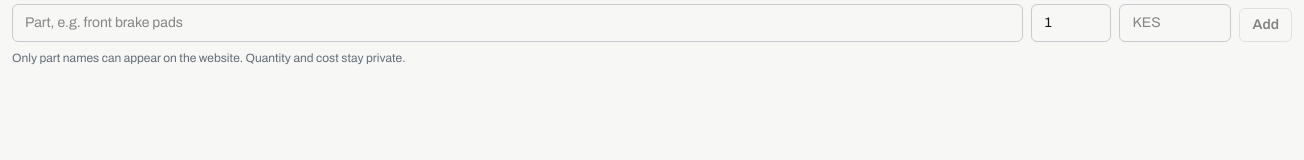
Test: <PartsEditor /> › adds a part with quantity and cost as numbers, then clears the row
Check: the button with aria-label "Add part" is disabled, box [1240,8,1292,42]
Step 1. Type "  Brake fluid " into the field named "Part name" → {"x": 518, "y": 23}, box [12,4,1024,42]
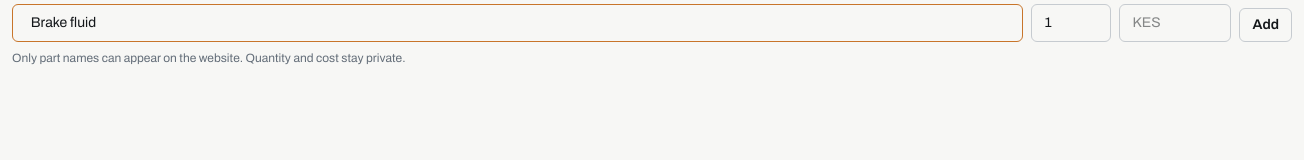
Step 2. Replace the text in the number field named "Quantity" with "1.5" → {"x": 1072, "y": 23}, box [1032,4,1112,42]
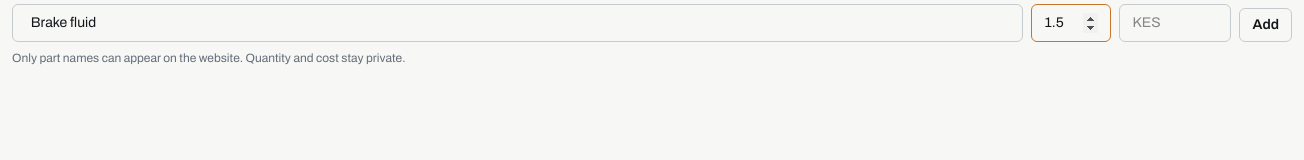
Step 3. Type "1200" into the number field named "Cost (KES)" → {"x": 1176, "y": 23}, box [1120,4,1232,42]
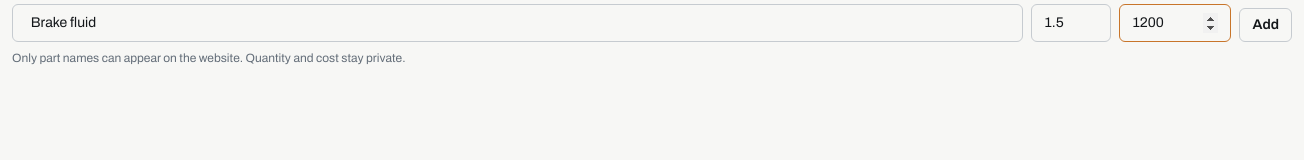
Step 4. Click the button with aria-label "Add part" → {"x": 1266, "y": 25}, box [1240,8,1292,42]
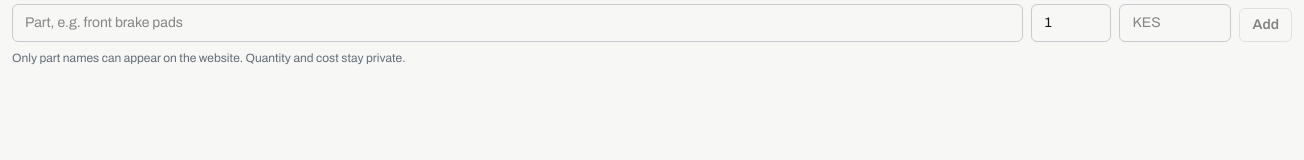
Check: the field named "Part name" is empty, box [12,4,1024,42]
Check: the number field named "Quantity" holds "1", box [1032,4,1112,42]
